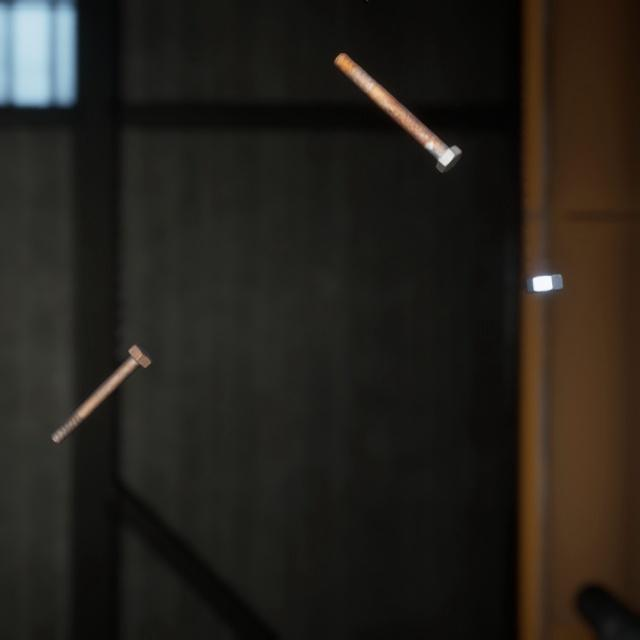bolt: (329, 37, 466, 166), (46, 319, 157, 429)
nut: (521, 252, 567, 280)
